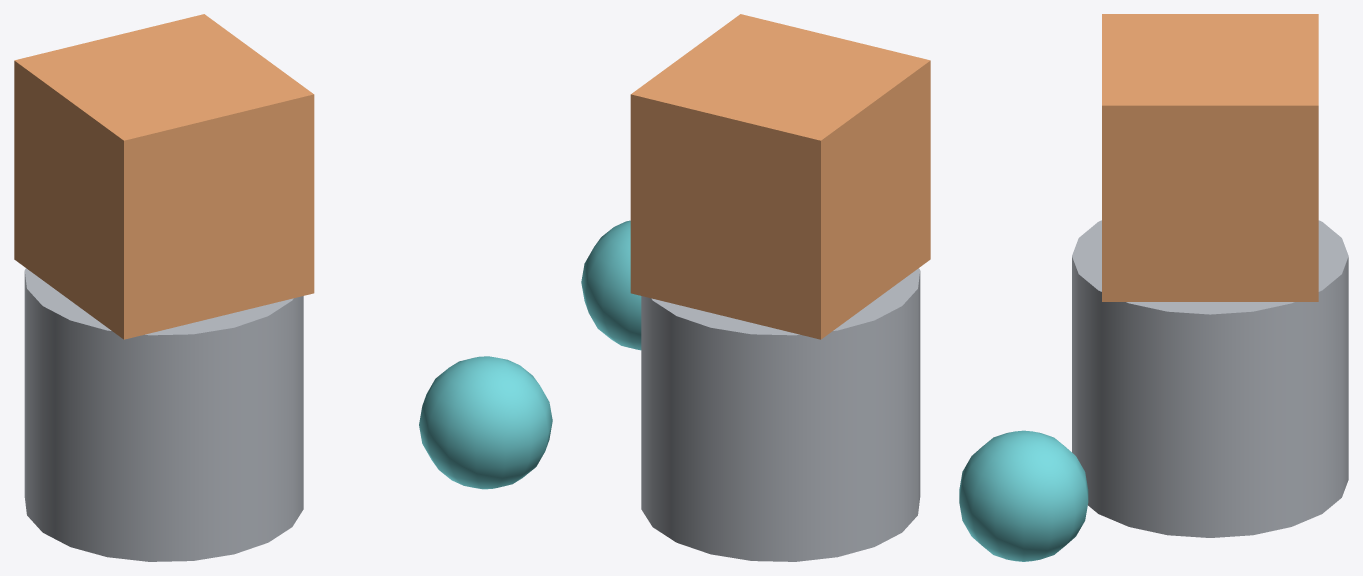
Rendered from sample.glb.
The picture shows the model from 3 angles, left to right: view 1: azimuth 30°, elevation 25°; view 2: azimuth 150°, elevation 25°; view 3: azimuth 270°, elevation 25°; orthographic projection.
Visible parts, largest first — view 1: Cube, Pedestal, Sphere; view 2: Cube, Pedestal, Sphere; view 3: Pedestal, Cube, Sphere.
Part boxes in pixels (<box>): Cube: <box>14,14,314,339</box>; Pedestal: <box>24,268,303,561</box>; Sphere: <box>419,356,552,489</box>; Cube: <box>630,14,930,339</box>; Pedestal: <box>641,268,920,561</box>; Sphere: <box>581,220,641,350</box>; Pedestal: <box>1072,220,1348,537</box>; Cube: <box>1102,14,1318,301</box>; Sphere: <box>959,430,1088,561</box>.
Size of the model in its own units: 1.54 by 1.54 by 1.29.
